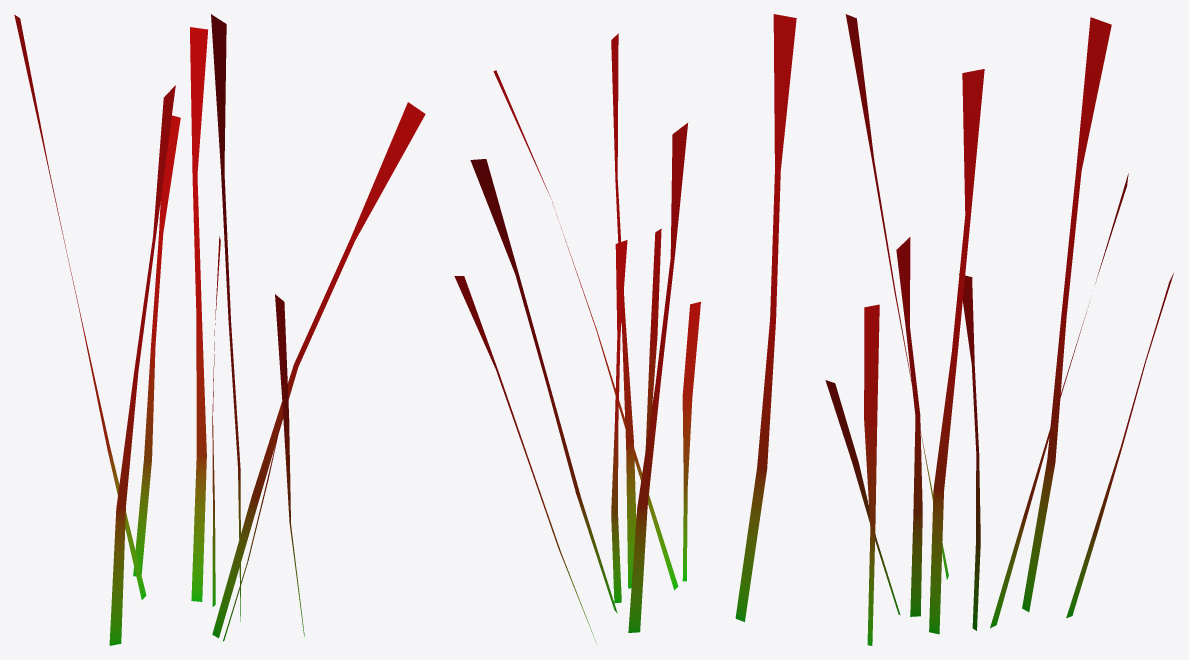
Rendered from Tundra Grass_LOD6_Var14_wk2oaeyqx.fbx.
3 renders of one model, left to right at view 1: azimuth 30°, elevation 25°; view 2: azimuth 150°, elevation 25°; view 3: azimuth 270°, elevation 25°, orthographic. The views are drawn at different scales.
Parts seen in each view (by area): view 1: _7rk3_Var14_LOD6; view 2: _7rk3_Var14_LOD6; view 3: _7rk3_Var14_LOD6.
Part boxes in pixels (x1,y1,x2,y2): _7rk3_Var14_LOD6: (14,14,425,645); _7rk3_Var14_LOD6: (454,14,796,642); _7rk3_Var14_LOD6: (825,14,1173,645).
Size of the model in its own units: 17.31 by 32.22 by 18.02.
